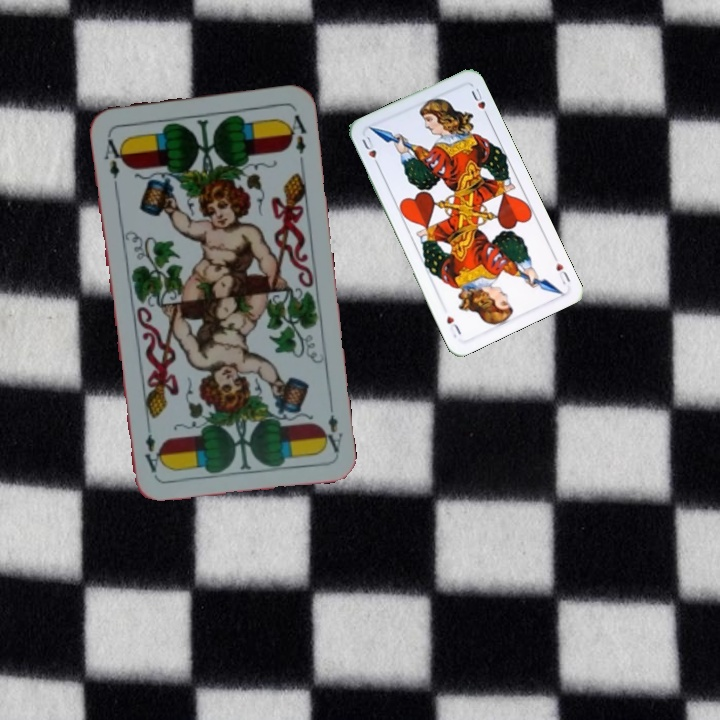EA: (100, 130, 127, 181), (317, 411, 346, 456)
HU: (358, 131, 383, 170), (552, 258, 573, 287)
